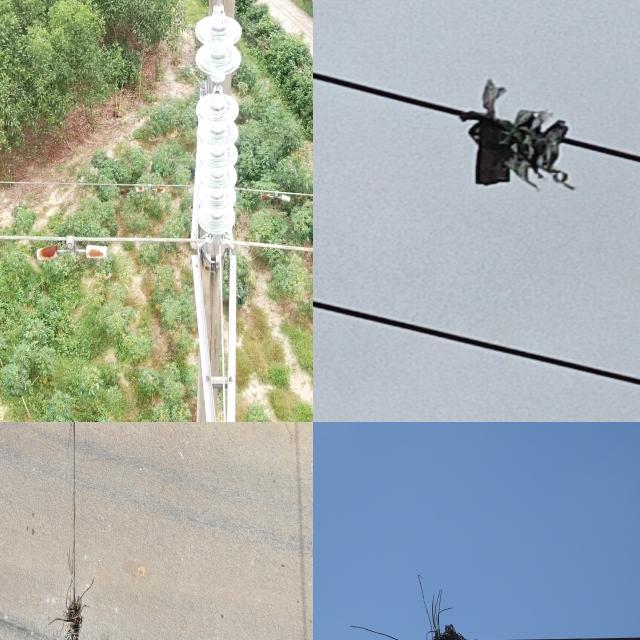植被遮挡: (451, 76, 595, 191)
正常电缆: (0, 171, 313, 215), (0, 227, 313, 266)
正常绝缘子: (188, 0, 249, 278)
电缆破损: (54, 422, 86, 640), (313, 607, 472, 640)
绝缘子破损: (209, 76, 226, 98)
